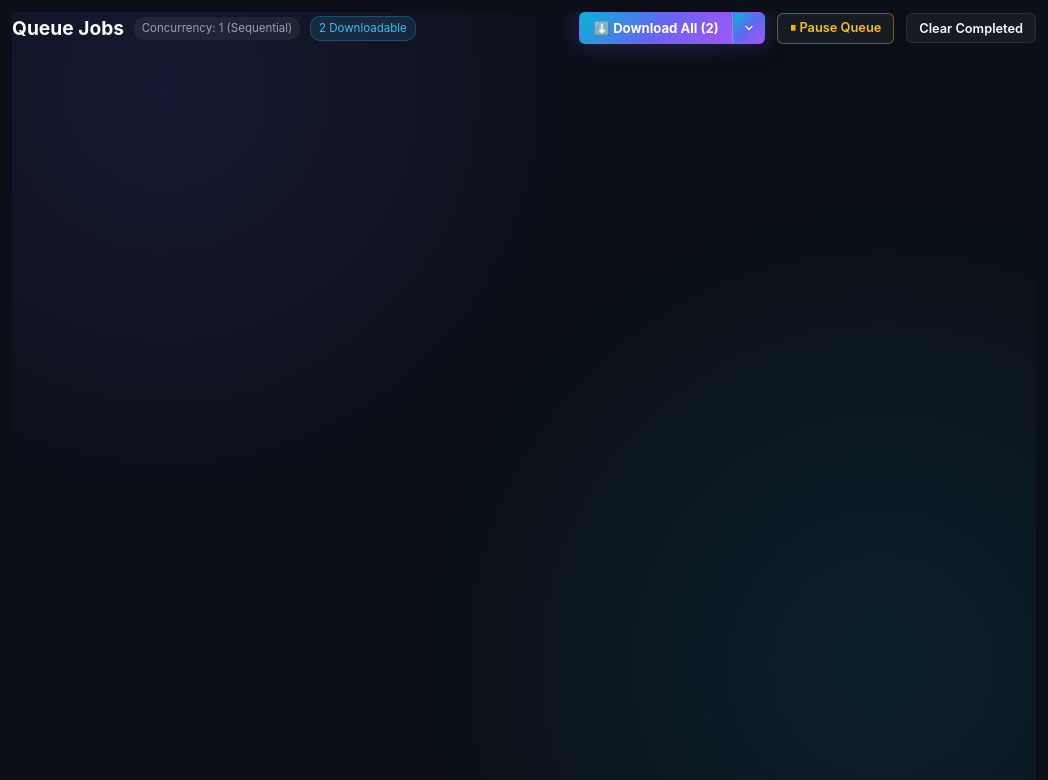
Test case: QueueControls Dropdown Suite › closes dropdown when Escape key is pressed
Click the button named "Choose download format". click: (749, 28)
box: [733,12,765,44]
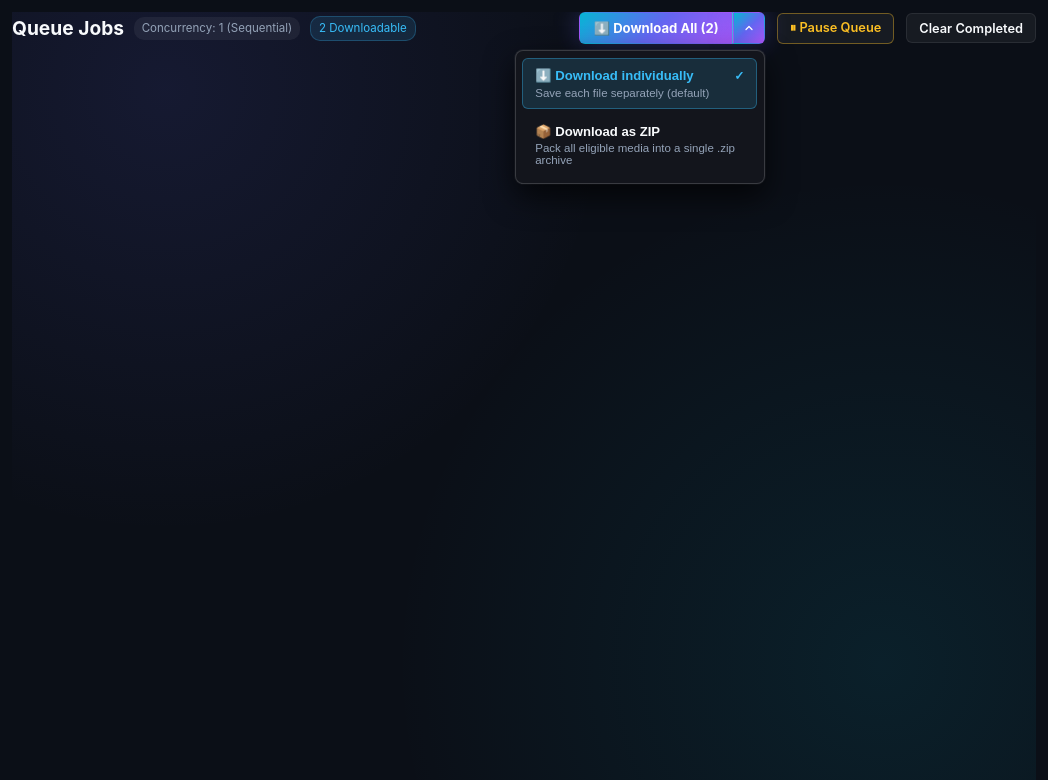
Expected: the menu is shown, [515,50,765,184]
Press Escape
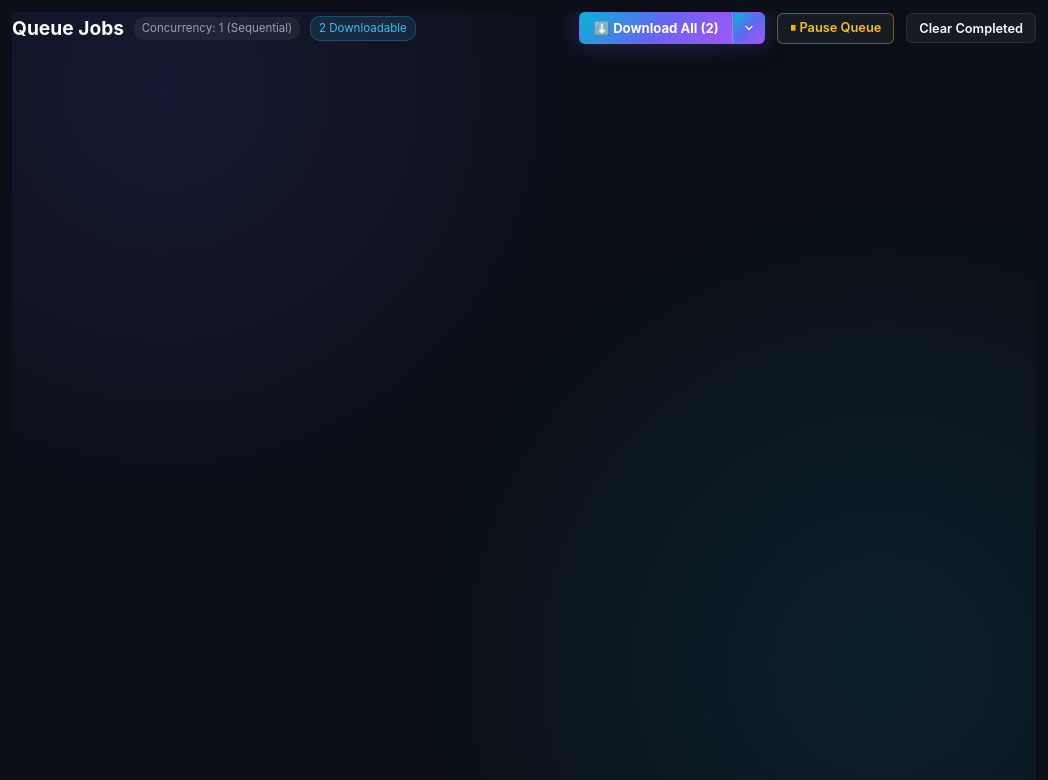
Expected: the menu is gone
